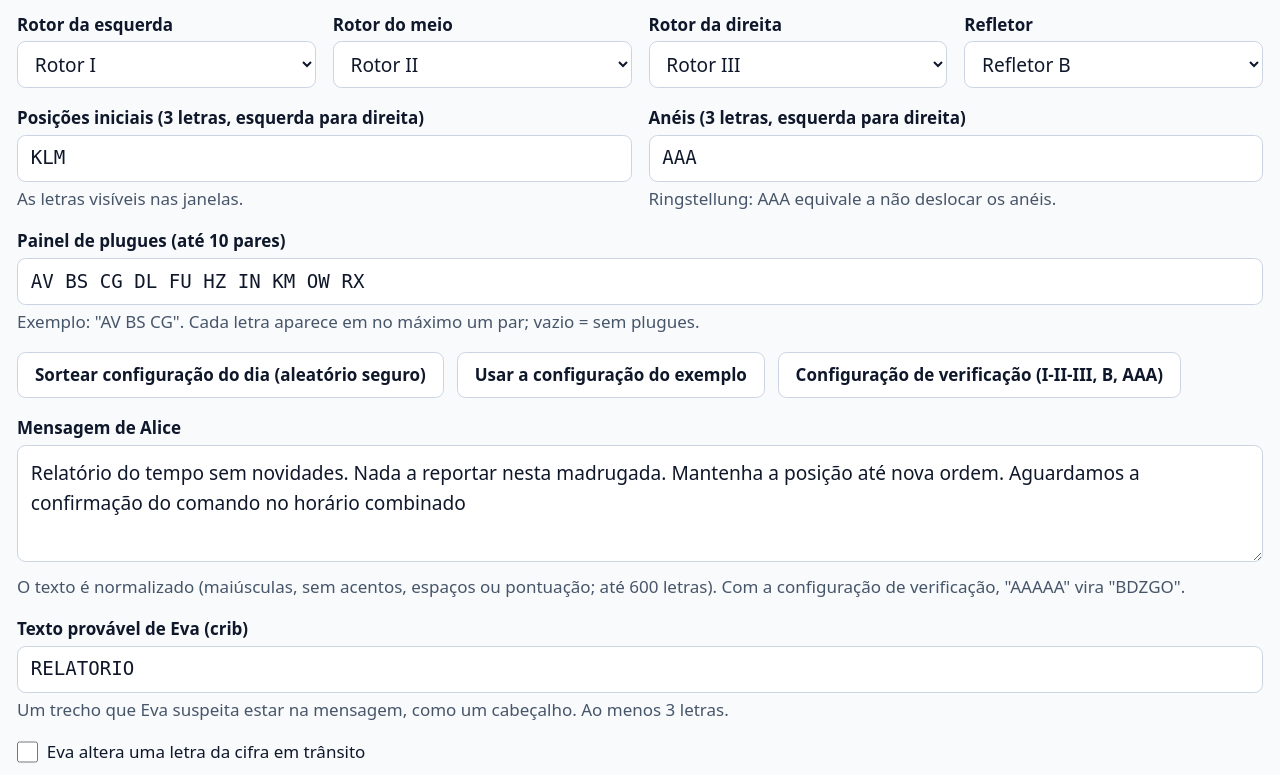
it: laboratório da Máquina Enigma › mostra o passo duplo do rotor do meio (ADU → ADV → AEW → BFX → BFY)
The image size is (1280, 775).
(page scrolled)
Step 1. Click the button "Configuração de verificação (I-II-III, B, AAA)" → (979, 375), box [778,352,1181,398]
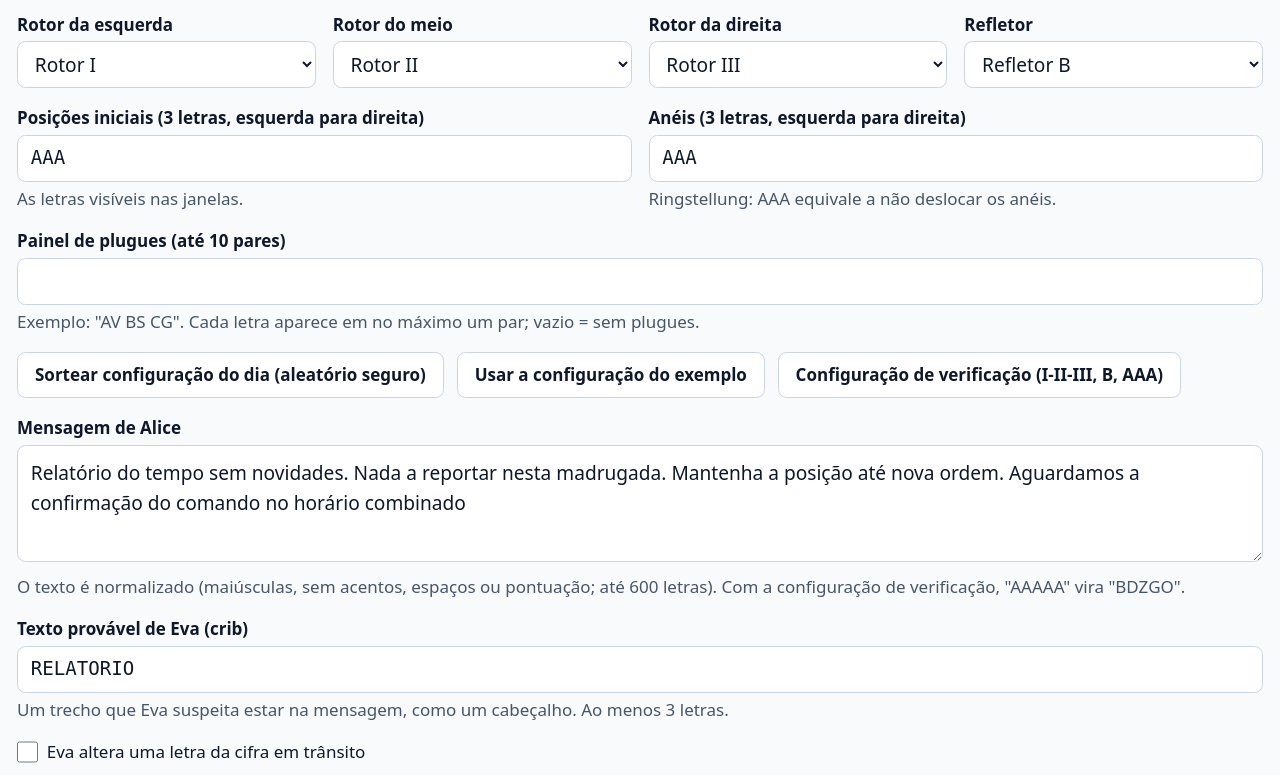
Step 2. Replace the text in the field labelled "Posições iniciais (3 letras, esquerda para direita)" with "ADU" → (324, 158), box [17,135,632,182]
Step 3. Replace the text in the text box labelled "Mensagem de Alice" with "AAAAA" → (640, 504), box [17,445,1263,562]
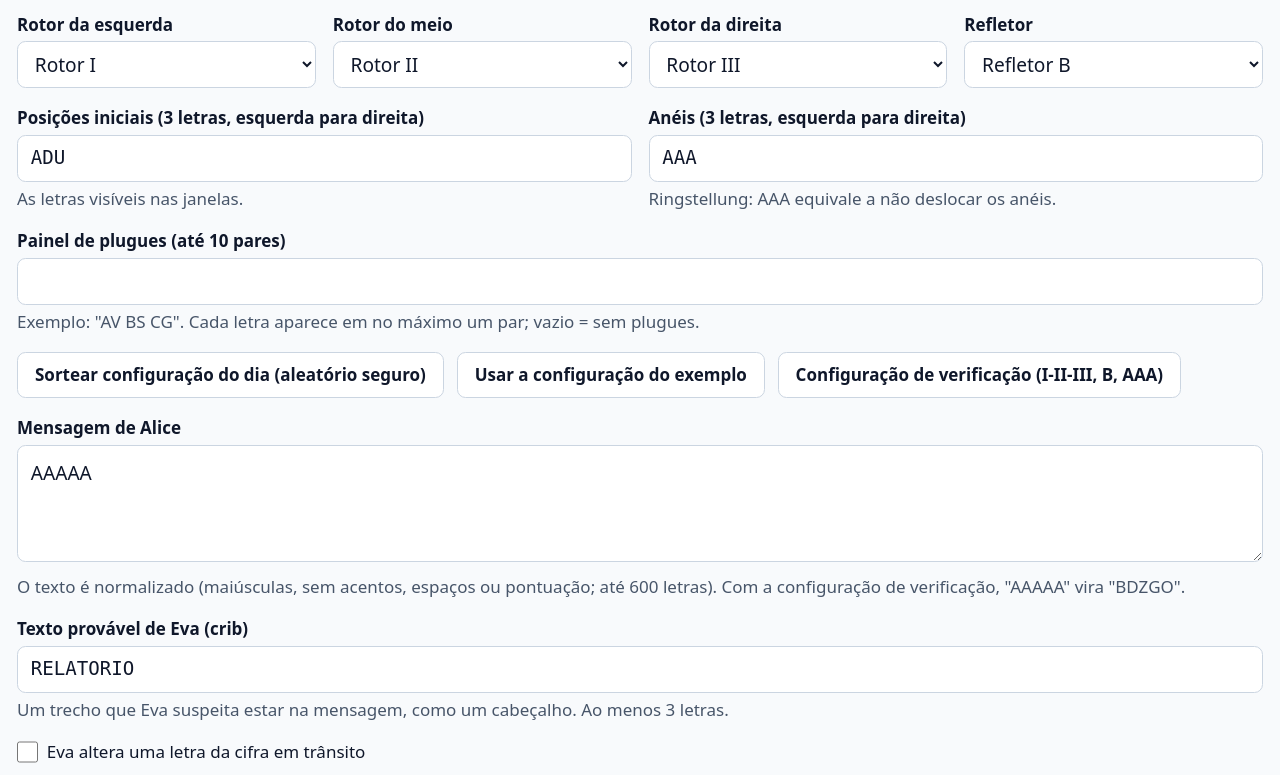
Step 4. Replace the text in the field labelled "Texto provável de Eva (crib)" with "AAA" → (640, 669), box [17,646,1263,693]
(page scrolled)
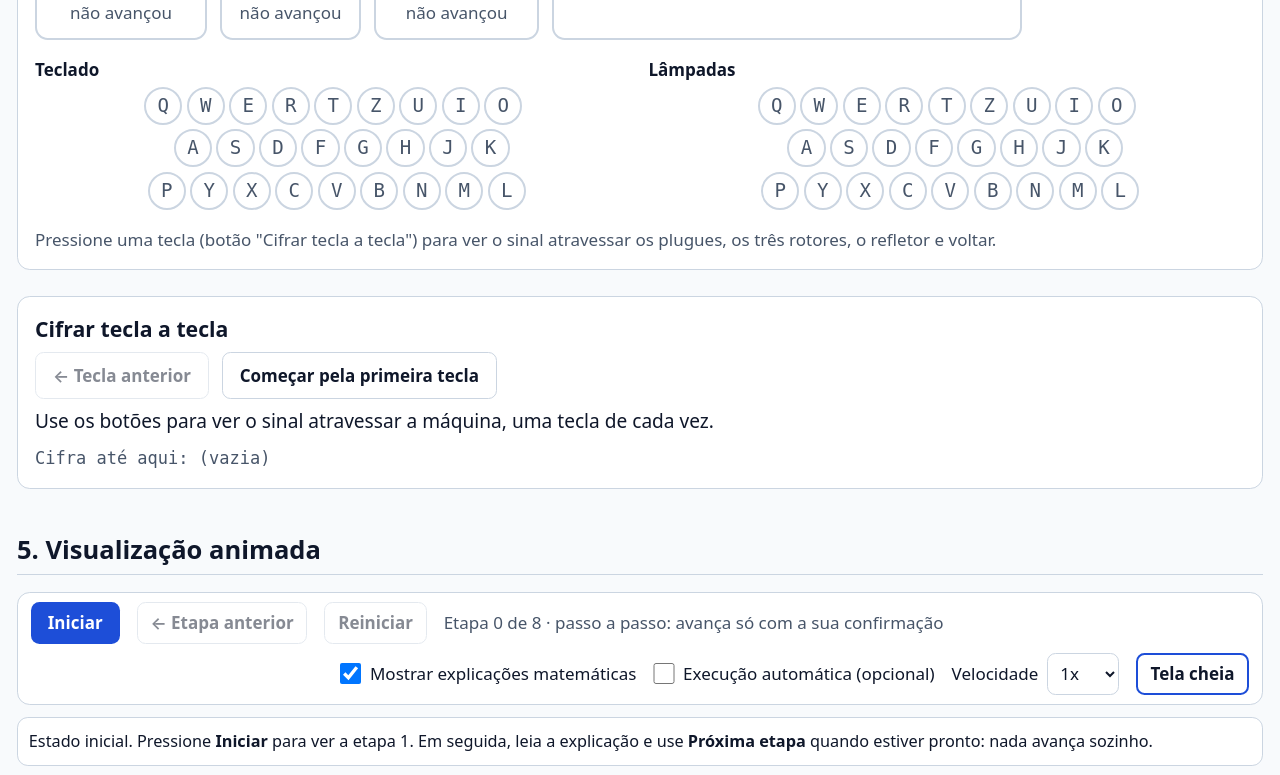
Step 5. Click the button "Começar pela primeira tecla" → (359, 375), box [222,352,497,399]
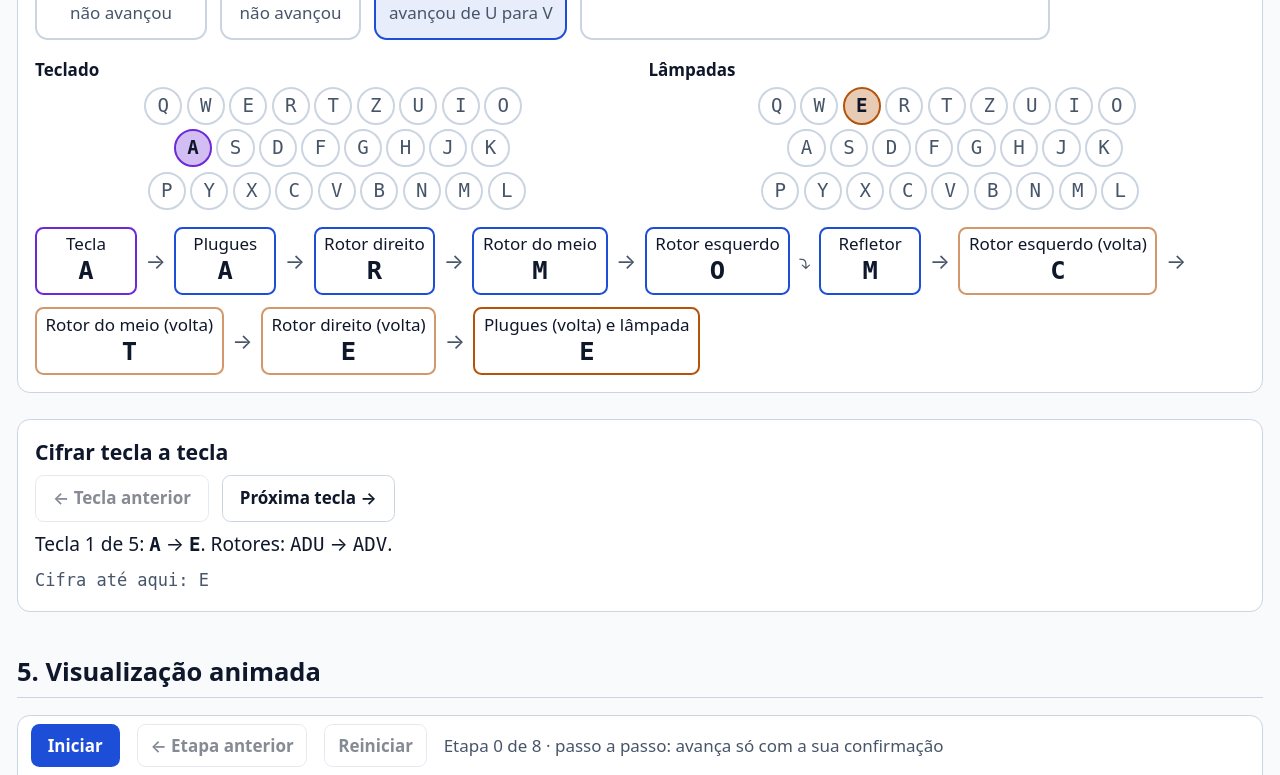
Step 6. Click the button "Próxima tecla →" → (308, 498), box [222,475,395,522]
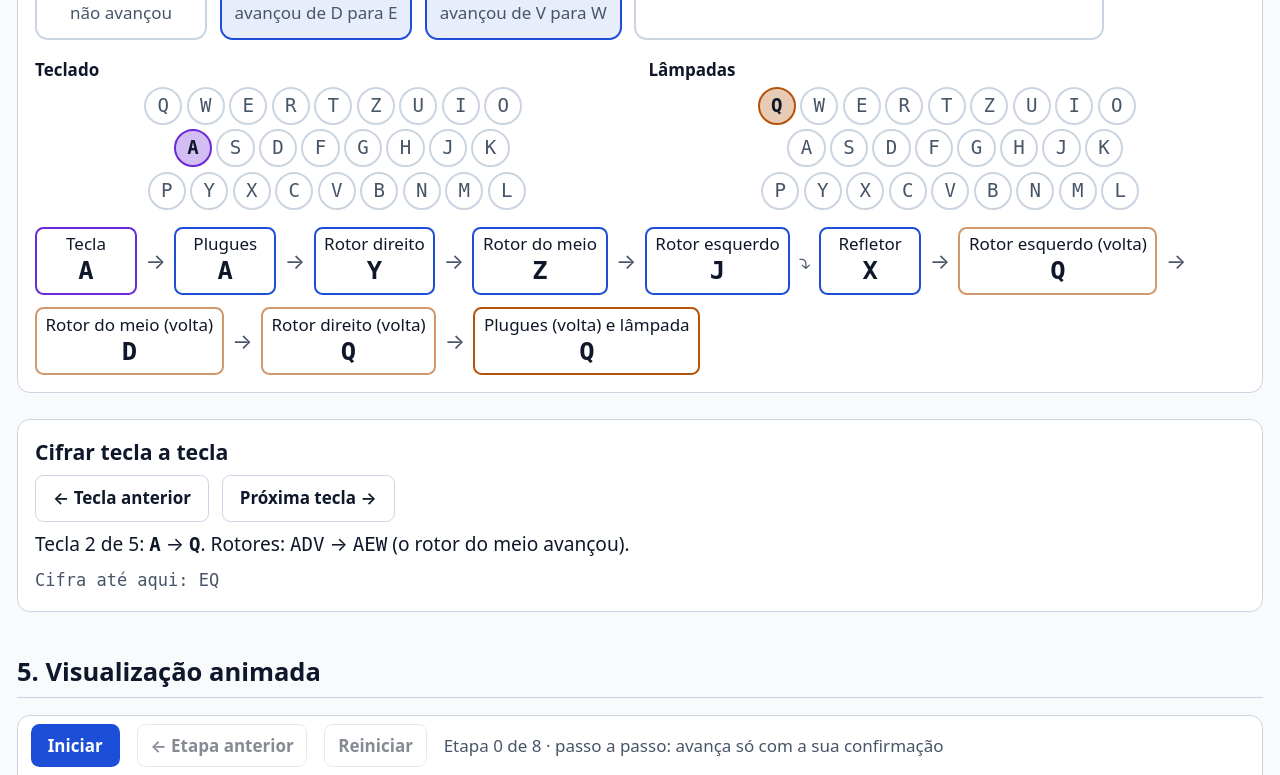
Check: the text "o rotor do meio avançou" is shown, box [387,531,624,557]
Step 7. Click the button "Próxima tecla →" → (308, 498), box [222,475,395,522]
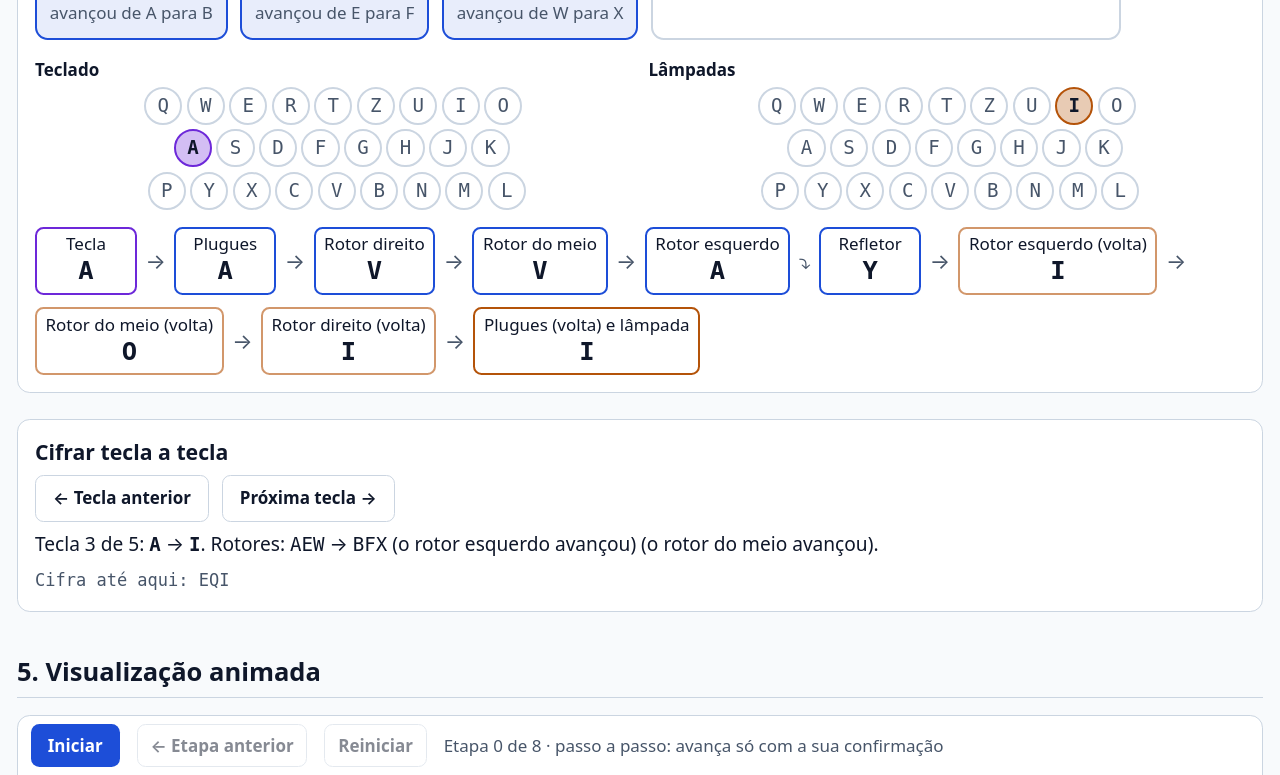
Check: the text "o rotor esquerdo avançou" is shown, box [387,531,636,557]
